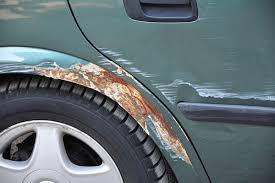doorouter-dent: (187, 0, 274, 182)
quaterpanel-dent: (35, 64, 181, 179)
